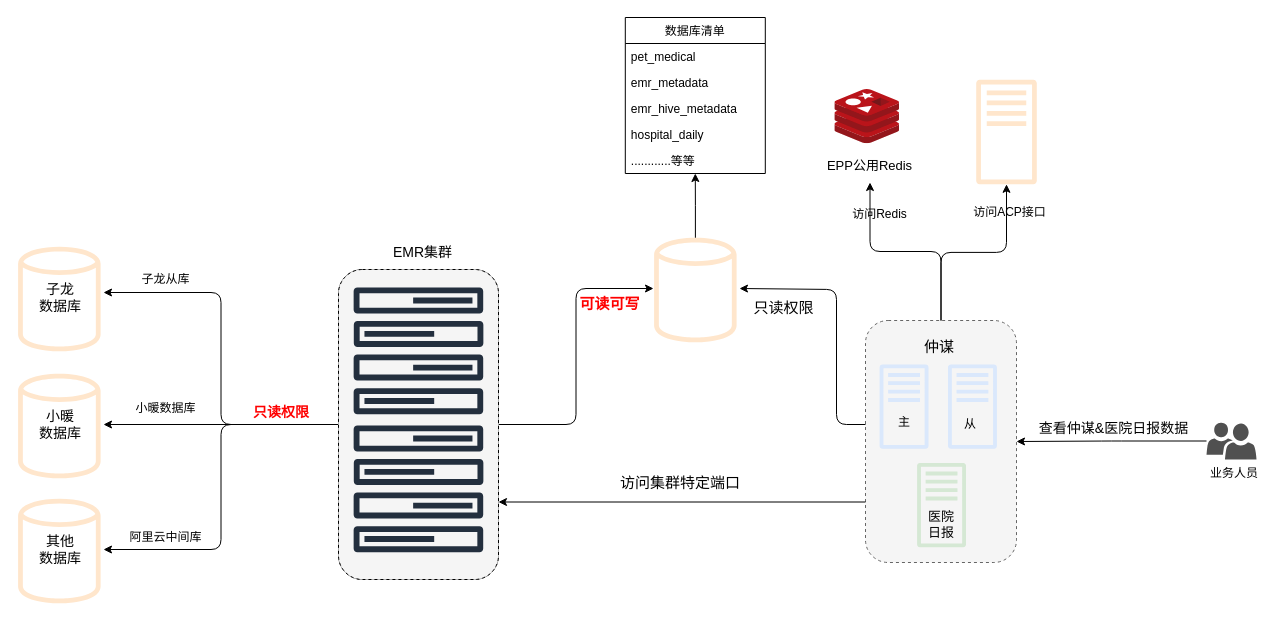
Image size: 1279x623. Some labels were removed from this diagram. The centre of each missing label's shape, as x and y in pixels:
"EPP公用 数据库" belongs at (x=695, y=289).
"子龙 接口 服务" belongs at (x=1006, y=131).
